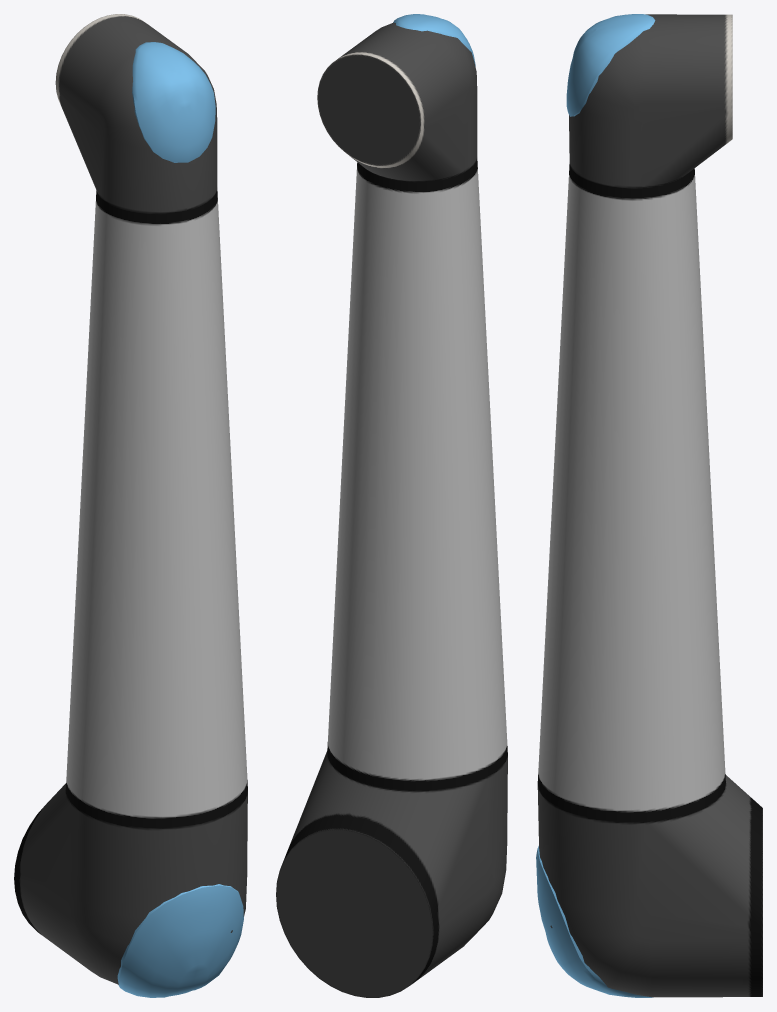
The model's file is forearm.fbx.
The picture shows the model from 3 angles, left to right: view 1: azimuth 30°, elevation 25°; view 2: azimuth 150°, elevation 25°; view 3: azimuth 270°, elevation 25°; orthographic projection. The views are drawn at different scales.
Visible parts, largest first — view 1: forearm; view 2: forearm; view 3: forearm.
Boxes of the visible parts, bbox=[...] form: forearm: bbox=[14, 14, 247, 997]; forearm: bbox=[276, 14, 507, 997]; forearm: bbox=[536, 14, 762, 997].
Bounding box in the file's own units: 15.12 × 85.78 × 18.14.
